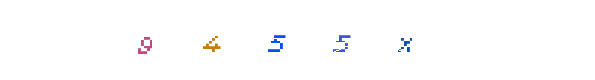4: (172, 0, 252, 80)
5: (257, 0, 337, 80), (278, 0, 358, 80)
G: (107, 0, 187, 80)
X: (301, 0, 381, 80)
